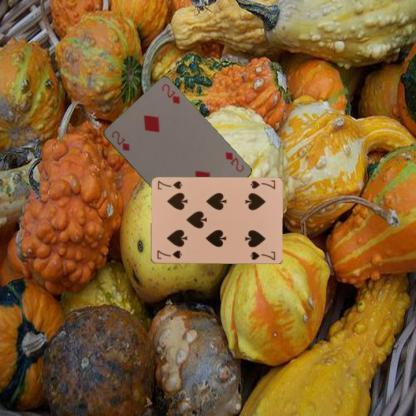2d: (222, 148, 245, 174), (108, 128, 130, 152)
7s: (154, 248, 183, 260), (247, 178, 276, 190)
